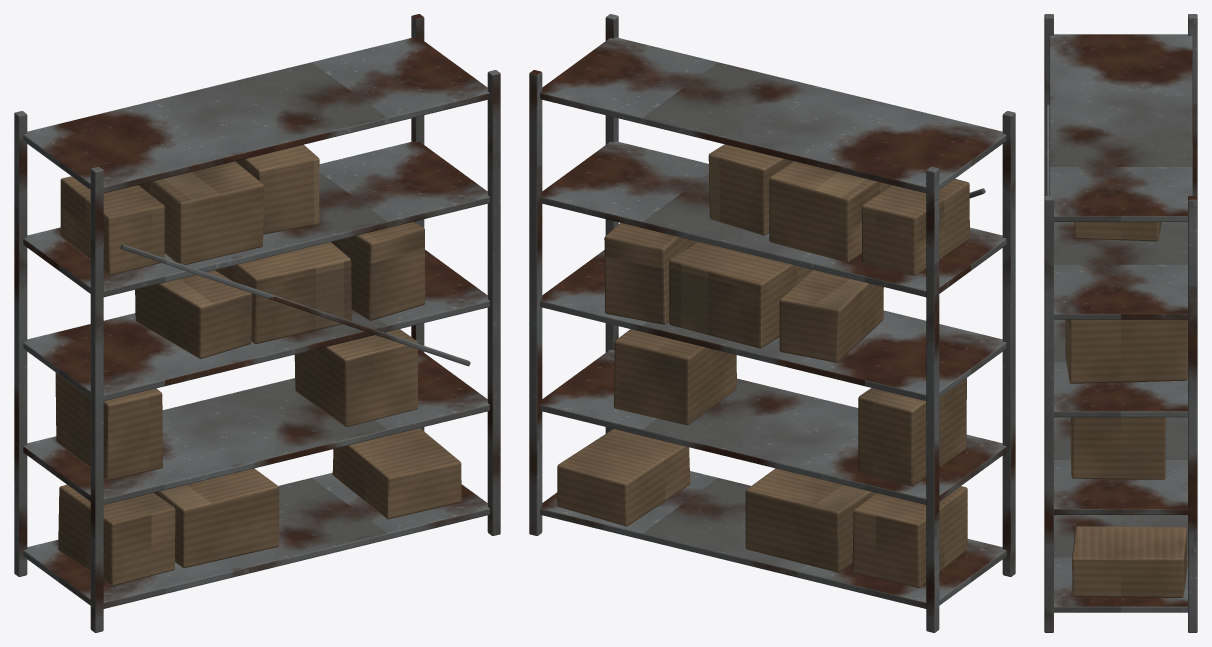
Rendered from F06_metal_shelving_boxes.glb.
3 renders of one model, left to right at view 1: azimuth 30°, elevation 25°; view 2: azimuth 150°, elevation 25°; view 3: azimuth 270°, elevation 25°, orthographic. The views are drawn at different scales.
Visible parts, largest first — view 1: F06_metal_shelving_boxes; view 2: F06_metal_shelving_boxes; view 3: F06_metal_shelving_boxes.
Part boxes in pixels (box(x1,y1,x2,y2)): F06_metal_shelving_boxes: box(14, 14, 500, 632); F06_metal_shelving_boxes: box(529, 14, 1015, 632); F06_metal_shelving_boxes: box(1044, 14, 1197, 632).
Bounding box in the file's own units: 1.84 × 2 × 0.64.
Materials: 3 (3 with a texture image).
